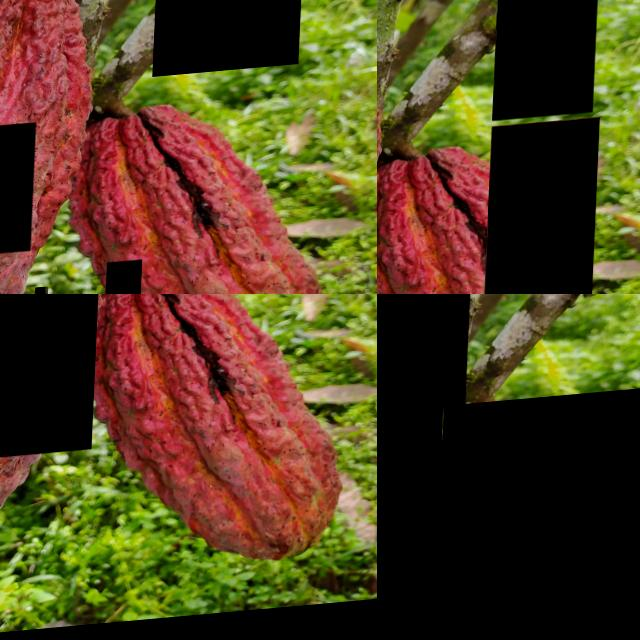Sana: (435, 393, 640, 640), (377, 294, 473, 640), (487, 127, 602, 294), (0, 294, 102, 463), (495, 0, 601, 128), (154, 0, 303, 84), (0, 127, 38, 265), (109, 266, 146, 294)
